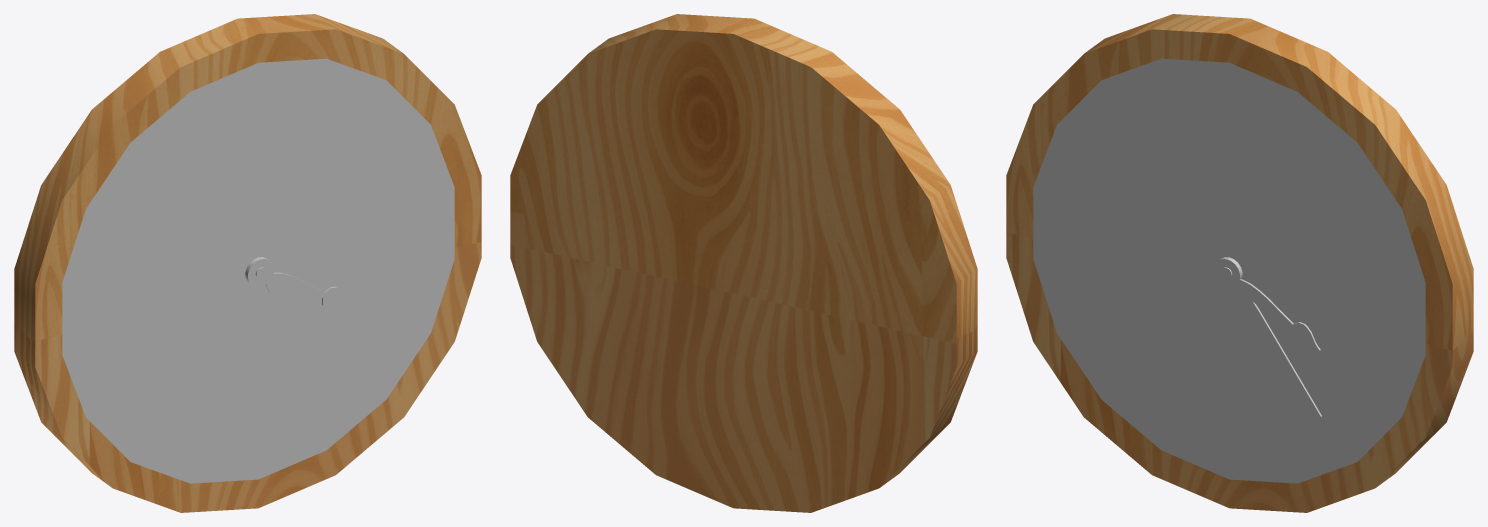
File: BR_Clock.fbx
3 views of the same model, side by side, from view 1: azimuth 30°, elevation 25°; view 2: azimuth 150°, elevation 25°; view 3: azimuth 330°, elevation 25° (orthographic).
Visible parts, largest first — view 1: BR_Clock; view 2: BR_Clock; view 3: BR_Clock.
Boxes of the visible parts, x1,y1,x2,y2 form: BR_Clock: (14,14,481,512); BR_Clock: (510,14,977,512); BR_Clock: (1006,14,1473,512).
Size of the model in its own units: 52.12 by 52.92 by 4.9.
